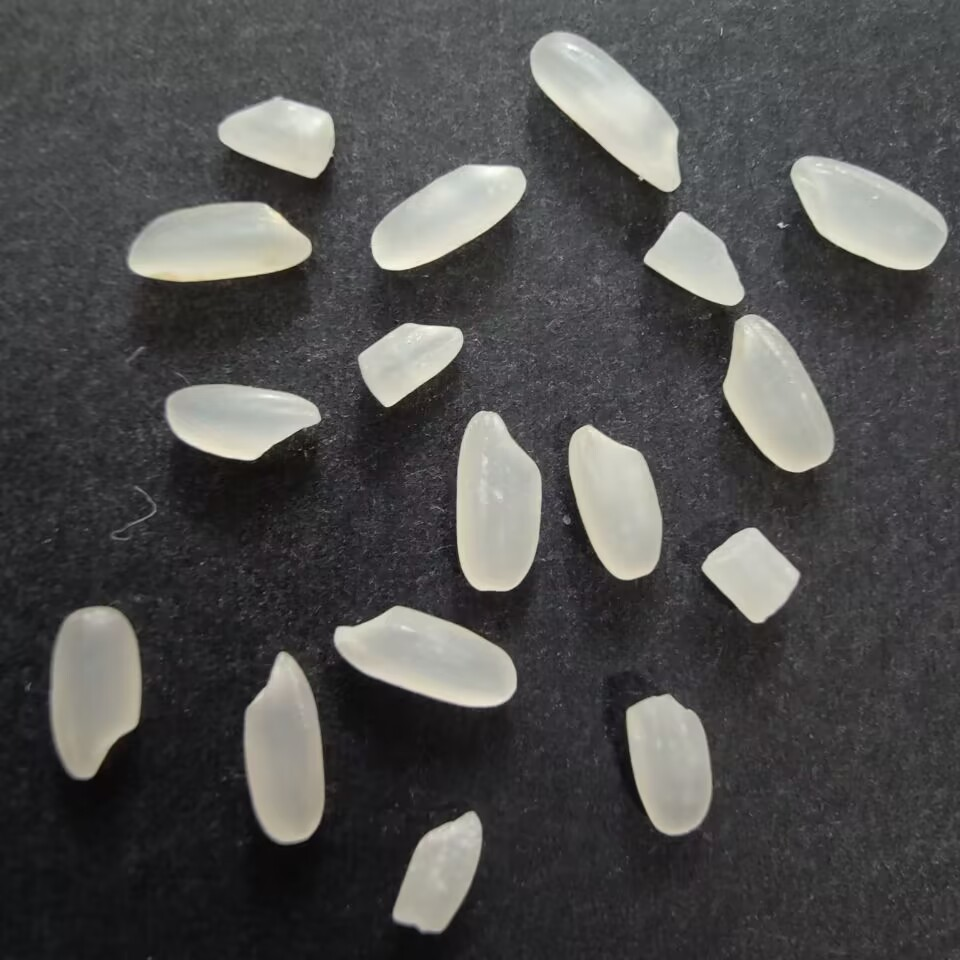broken: (386, 806, 485, 937), (639, 207, 750, 309), (212, 90, 335, 182), (698, 523, 802, 629), (356, 318, 465, 412)
rice: (528, 30, 686, 192), (785, 149, 951, 278), (326, 603, 520, 711), (721, 309, 837, 475), (368, 158, 531, 274), (236, 647, 330, 847), (45, 604, 147, 784), (120, 195, 316, 288), (451, 405, 545, 598), (568, 422, 666, 584), (161, 380, 326, 466), (626, 689, 715, 839)
